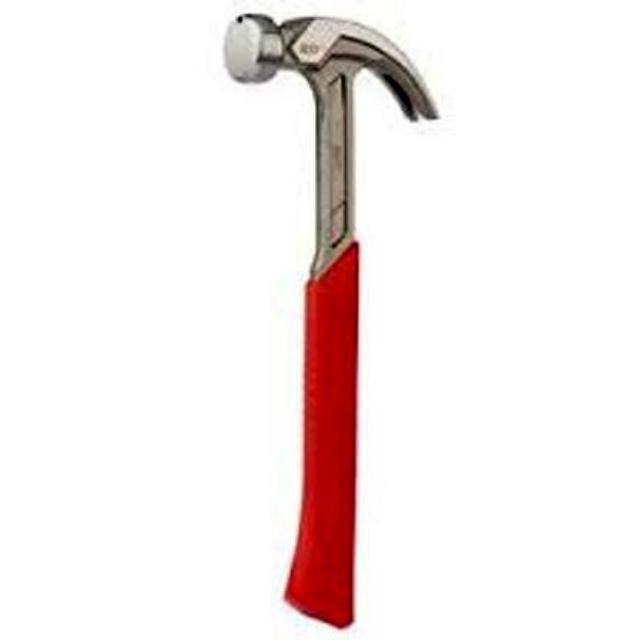hammer: (194, 0, 466, 640)
